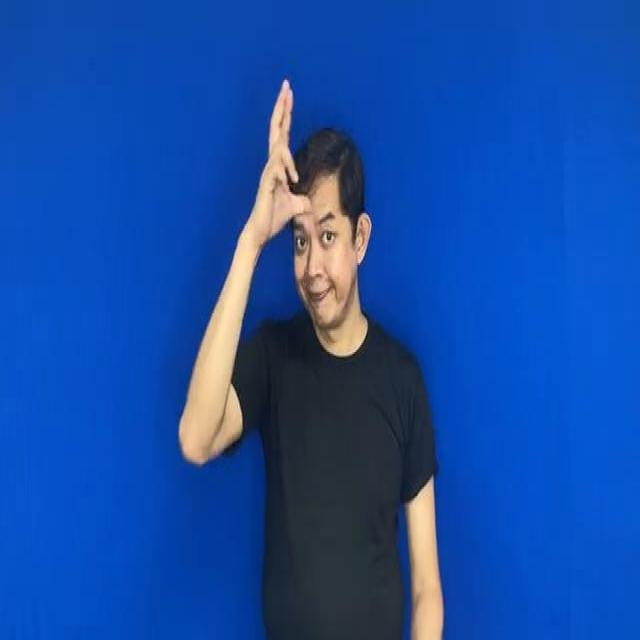chicken: (249, 74, 313, 242)
